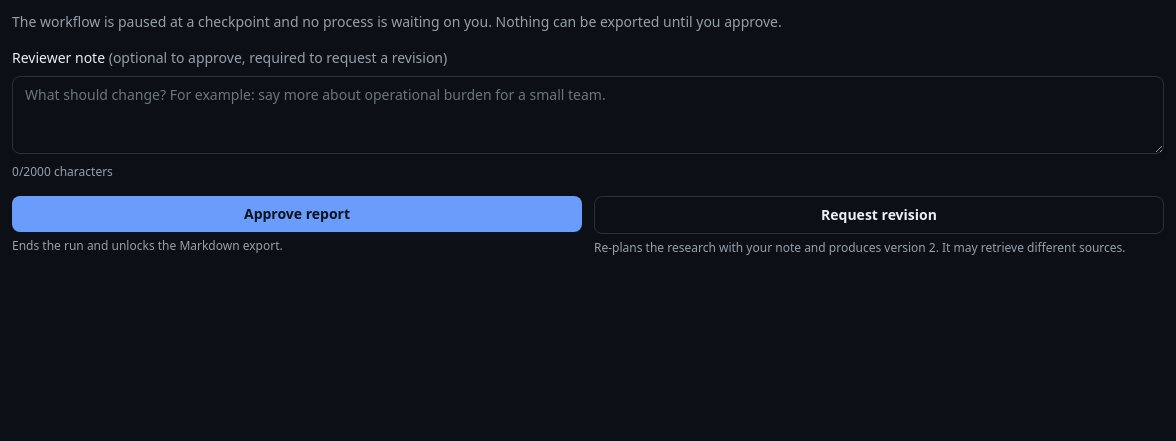
Test: ApprovalPanel › surfaces a rejected approval with its correlation id
This screenshot has width=1176, height=441.
Click the button "Approve report".
click(297, 214)  # box [12,196,582,232]
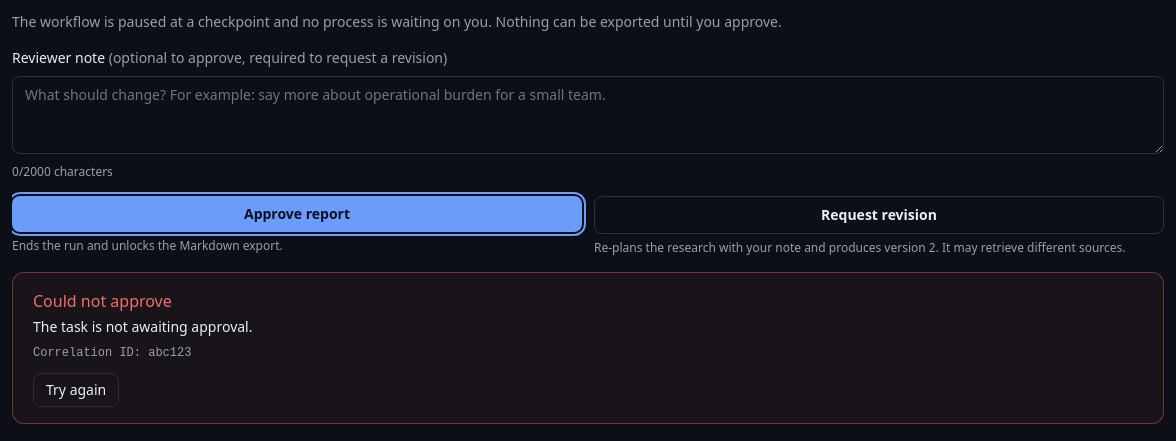
Expected: the text "Could not approve" is shown, [33,290,172,312]
Expected: the text "The task is not awaiting approval." is shown, [33,317,252,336]
Expected: the text "Correlation ID: abc123" is shown, [33,346,191,360]
